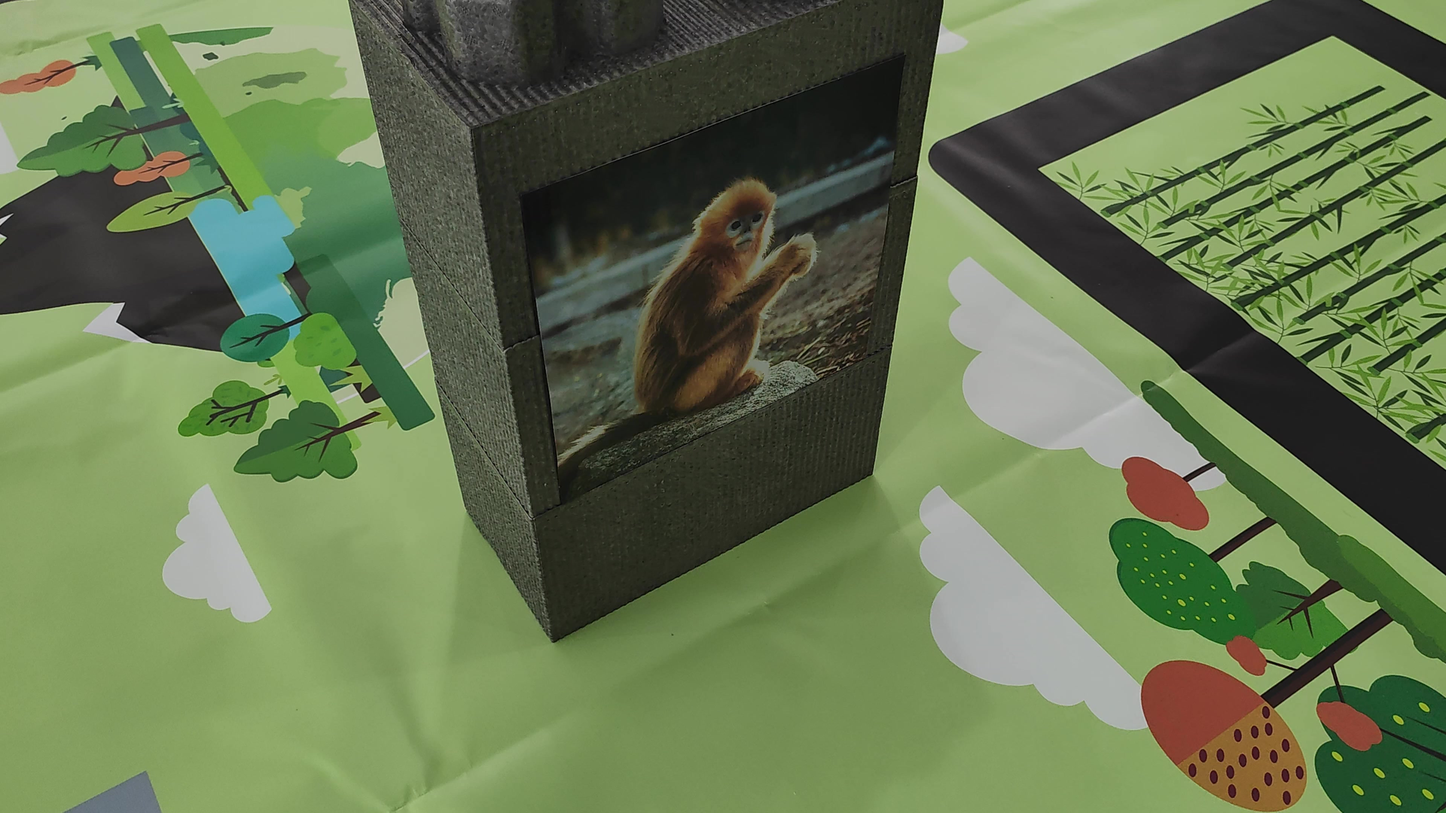monkey: (576, 140, 871, 429)
